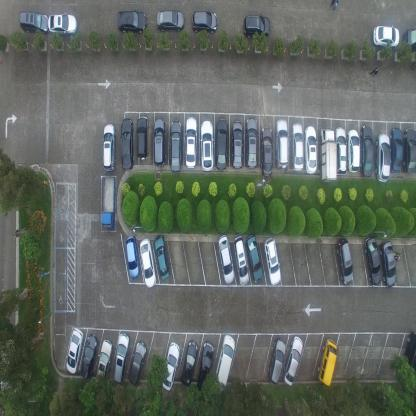car: (214, 334, 236, 392), (282, 335, 303, 387), (320, 126, 337, 185), (317, 338, 337, 387), (263, 235, 282, 286), (266, 338, 286, 386), (245, 232, 263, 283), (197, 340, 214, 394), (162, 341, 180, 392), (113, 331, 130, 384), (217, 234, 235, 284), (94, 338, 112, 388), (100, 175, 116, 231), (180, 339, 198, 388), (80, 332, 98, 381), (66, 326, 84, 375), (336, 237, 354, 285), (128, 340, 147, 385), (115, 9, 148, 34), (233, 235, 249, 286), (364, 235, 380, 286), (18, 10, 49, 36), (375, 132, 391, 182), (140, 238, 156, 288), (200, 119, 215, 172), (360, 123, 374, 179), (184, 115, 198, 170), (380, 240, 396, 288), (402, 329, 416, 382), (154, 234, 170, 280), (389, 125, 404, 174), (275, 118, 289, 170), (152, 116, 166, 168), (373, 22, 400, 48), (169, 119, 182, 173), (121, 117, 134, 171), (243, 14, 271, 39), (334, 126, 348, 176), (156, 9, 185, 33), (102, 121, 116, 170), (291, 120, 304, 172), (48, 12, 77, 35), (191, 9, 217, 34), (304, 124, 317, 174), (261, 125, 273, 179), (216, 117, 228, 171), (246, 117, 258, 170), (126, 234, 140, 278), (403, 126, 415, 176), (231, 120, 243, 170), (136, 115, 149, 160), (348, 127, 360, 175), (404, 27, 416, 53)
